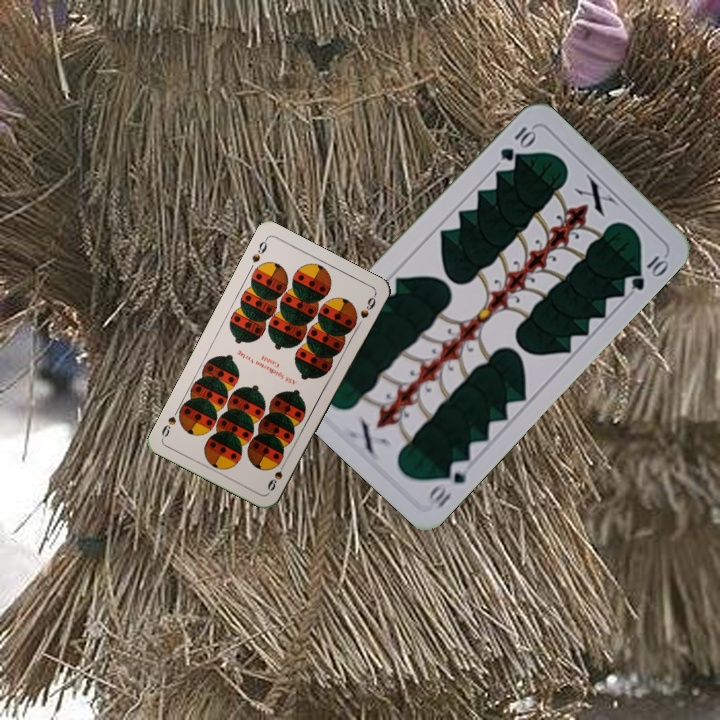G10: (424, 455, 474, 512), (496, 122, 540, 164)
S9: (263, 457, 289, 494), (248, 234, 270, 265)
